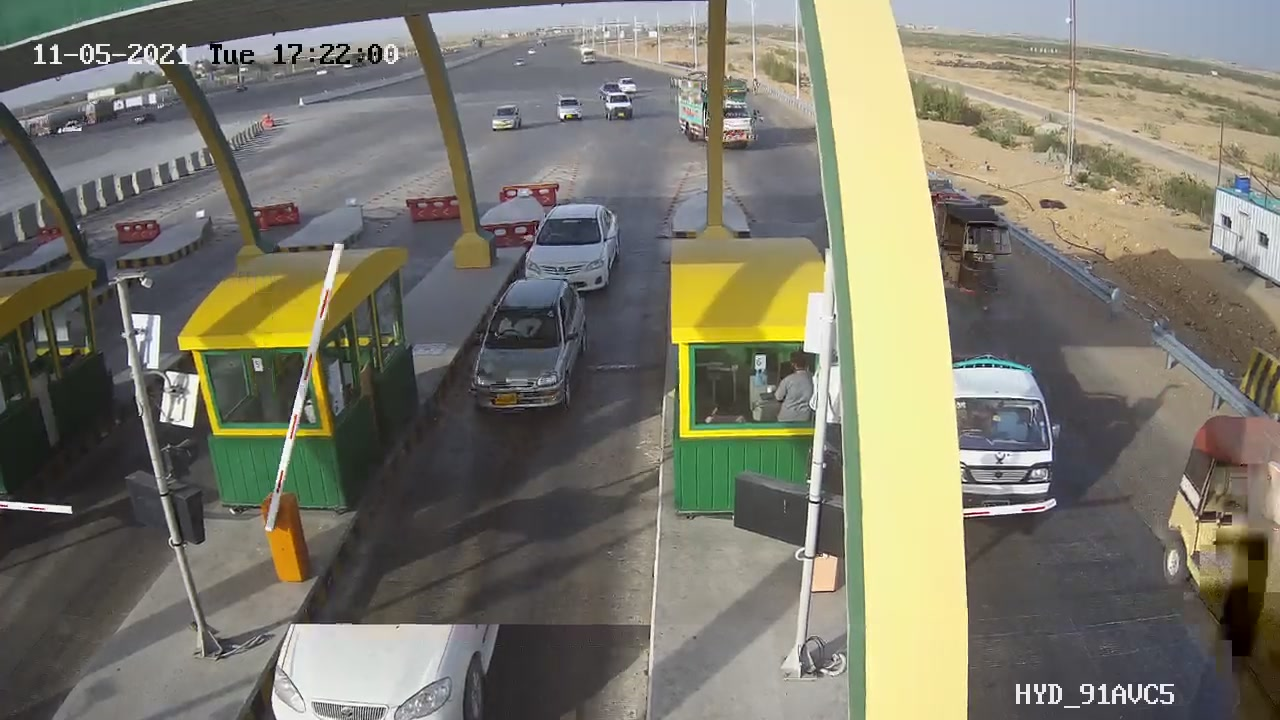F1: (457, 269, 603, 425), (514, 188, 633, 312)
